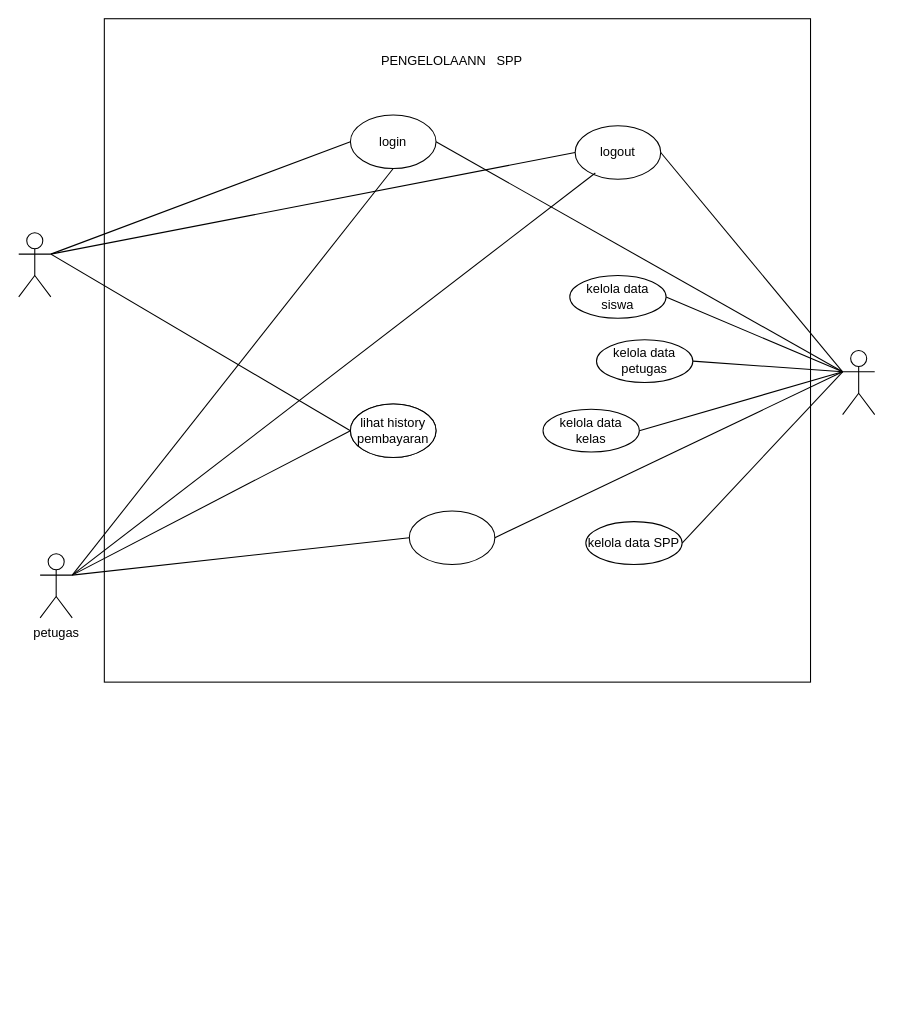
Some shapes in this 914 by 1022 pixel diagram are drawn without their labels. Each missing label, with the box of its shape:
administrator: (842, 349, 875, 415)
entry transaksi: (408, 510, 495, 564)
siswa: (18, 232, 51, 297)
